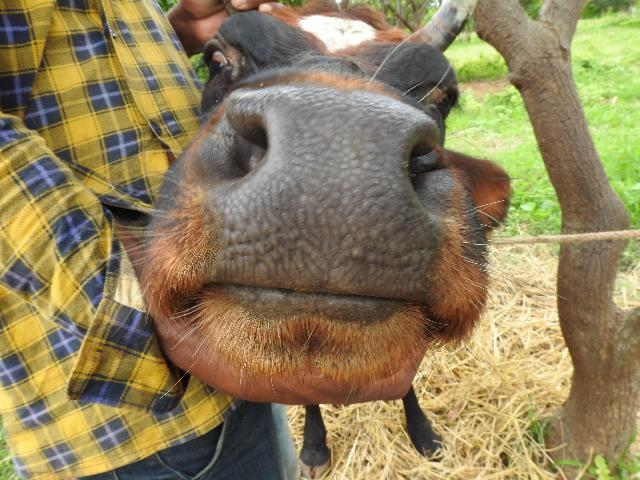Muzzle: (238, 94, 417, 276)
